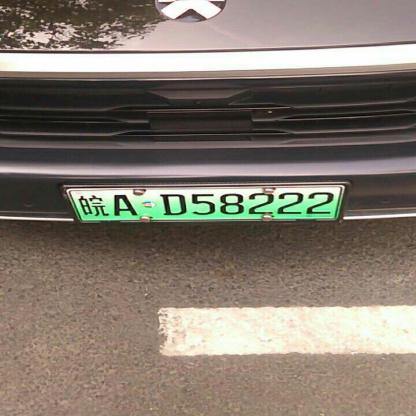lp: (67, 186, 341, 221)
